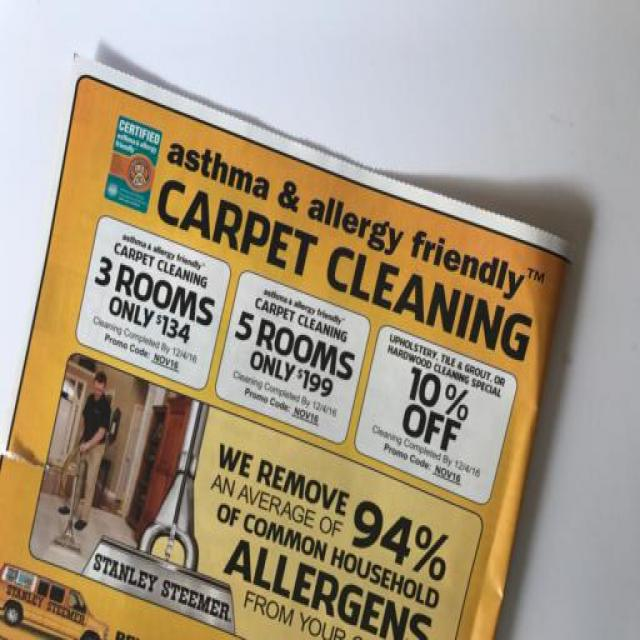paper: (1, 26, 599, 640)
